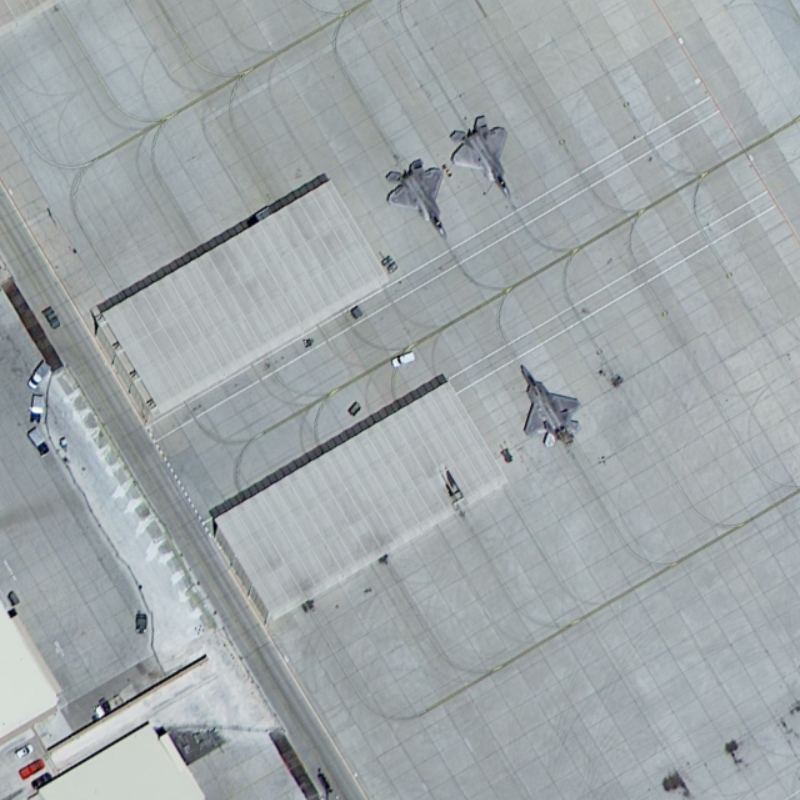A15: (377, 144, 460, 246), (508, 355, 589, 455), (447, 108, 527, 204)
